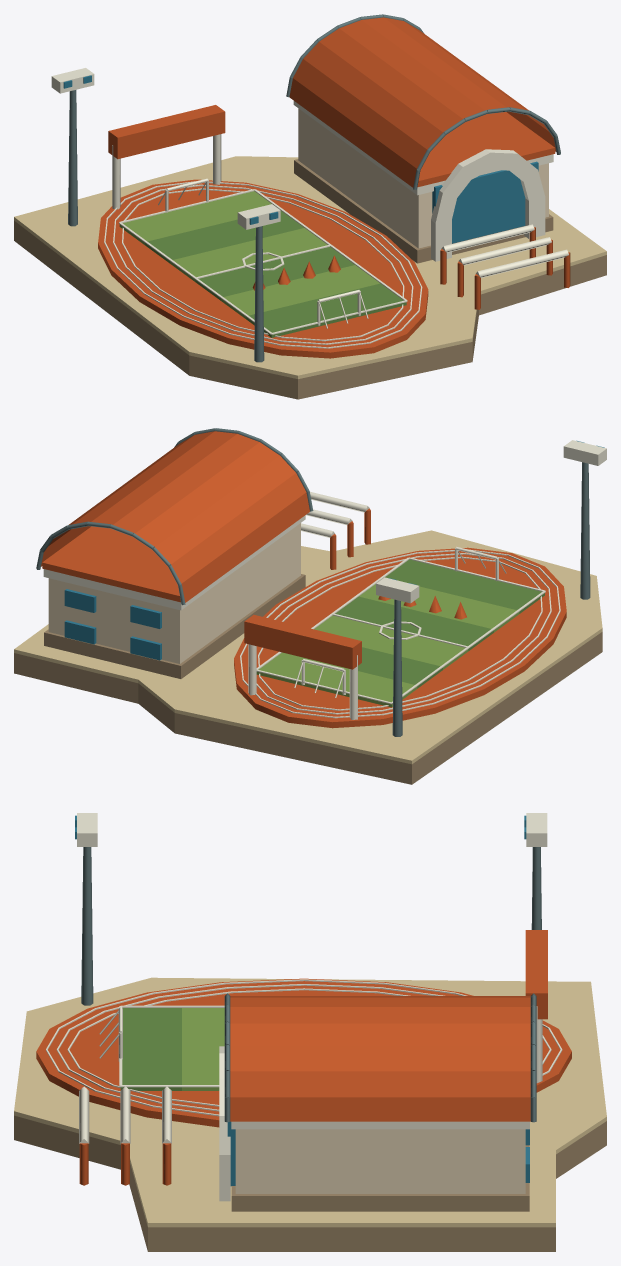
File: training-center-lv2.glb
The picture shows the model from 3 angles, top to bottom: view 1: azimuth 30°, elevation 25°; view 2: azimuth 150°, elevation 25°; view 3: azimuth 270°, elevation 25°; orthographic projection. The views are drawn at different scales.
Visible parts, largest first — view 1: foundation_sand, gym_barrel_roof_orange, running_track_orange, foundation_stoneDark, pitch_grassLight, pitch_grass, training_hall_cream, gym_front_arch_white, training_hall_roof_orange, running_lanes_white, gym_front_glass, timing_gate_orange (+10 smaller); view 2: gym_barrel_roof_orange, foundation_sand, running_track_orange, foundation_stoneDark, training_hall_cream, pitch_grassLight, pitch_grass, training_hall_roof_orange, running_lanes_white, training_hall_stoneDark, timing_gate_orange, lighting_iron (+9 smaller); view 3: gym_barrel_roof_orange, foundation_sand, training_hall_cream, foundation_stoneDark, running_track_orange, training_hall_stoneDark, pitch_grass, running_lanes_white, pitch_grassLight, training_hall_white, lighting_iron, gym_barrel_roof_ribs_iron (+6 smaller).
Part boxes in pixels (<box>): foundation_sand: <box>14,156,606,378</box>; gym_barrel_roof_orange: <box>289,17,556,187</box>; running_track_orange: <box>98,179,428,358</box>; foundation_stoneDark: <box>14,220,606,399</box>; pitch_grassLight: <box>119,191,379,318</box>; pitch_grass: <box>145,210,406,337</box>; training_hall_cream: <box>298,108,548,248</box>; gym_front_arch_white: <box>431,149,545,261</box>; training_hall_roof_orange: <box>417,112,555,187</box>; running_lanes_white: <box>104,181,422,348</box>; gym_front_glass: <box>432,161,538,243</box>; timing_gate_orange: <box>108,105,225,159</box>; gym_barrel_roof_orange: <box>41,431,309,602</box>; foundation_sand: <box>14,530,602,764</box>; running_track_orange: <box>234,547,566,728</box>; foundation_stoneDark: <box>14,632,602,784</box>; training_hall_cream: <box>48,523,300,663</box>; pitch_grassLight: <box>256,584,519,707</box>; pitch_grass: <box>286,559,544,688</box>; training_hall_roof_orange: <box>42,526,180,602</box>; running_lanes_white: <box>240,549,560,718</box>; training_hall_stoneDark: <box>44,574,305,678</box>; timing_gate_orange: <box>244,614,361,669</box>; lighting_iron: <box>392,462,590,736</box>; gym_barrel_roof_orange: <box>230,996,530,1121</box>; foundation_sand: <box>14,977,606,1227</box>; training_hall_cream: <box>235,1129,525,1193</box>; foundation_stoneDark: <box>14,1115,606,1251</box>; running_track_orange: <box>36,978,571,1127</box>; training_hall_stoneDark: <box>231,1145,529,1211</box>; pitch_grass: <box>120,1008,181,1090</box>; running_lanes_white: <box>46,979,562,1116</box>; pitch_grassLight: <box>182,1008,224,1090</box>; training_hall_white: <box>231,1121,529,1129</box>; lighting_iron: <box>81,847,541,1005</box>; gym_barrel_roof_ribs_iron: <box>224,993,536,1122</box>.
Size of the model in its own units: 0.9785 by 0.389 by 1.
